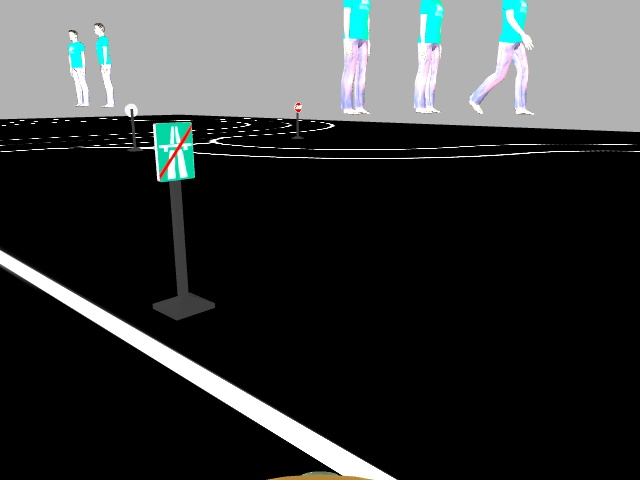HighwayExit: (152, 120, 195, 179)
